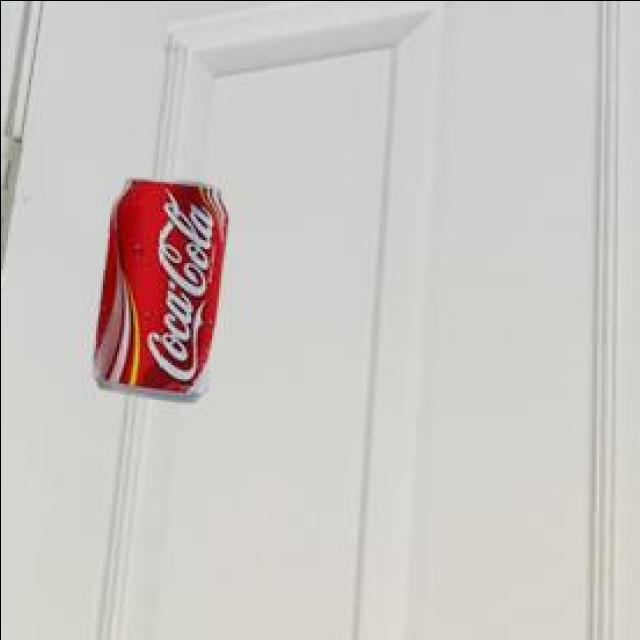logam: (96, 182, 231, 405)
